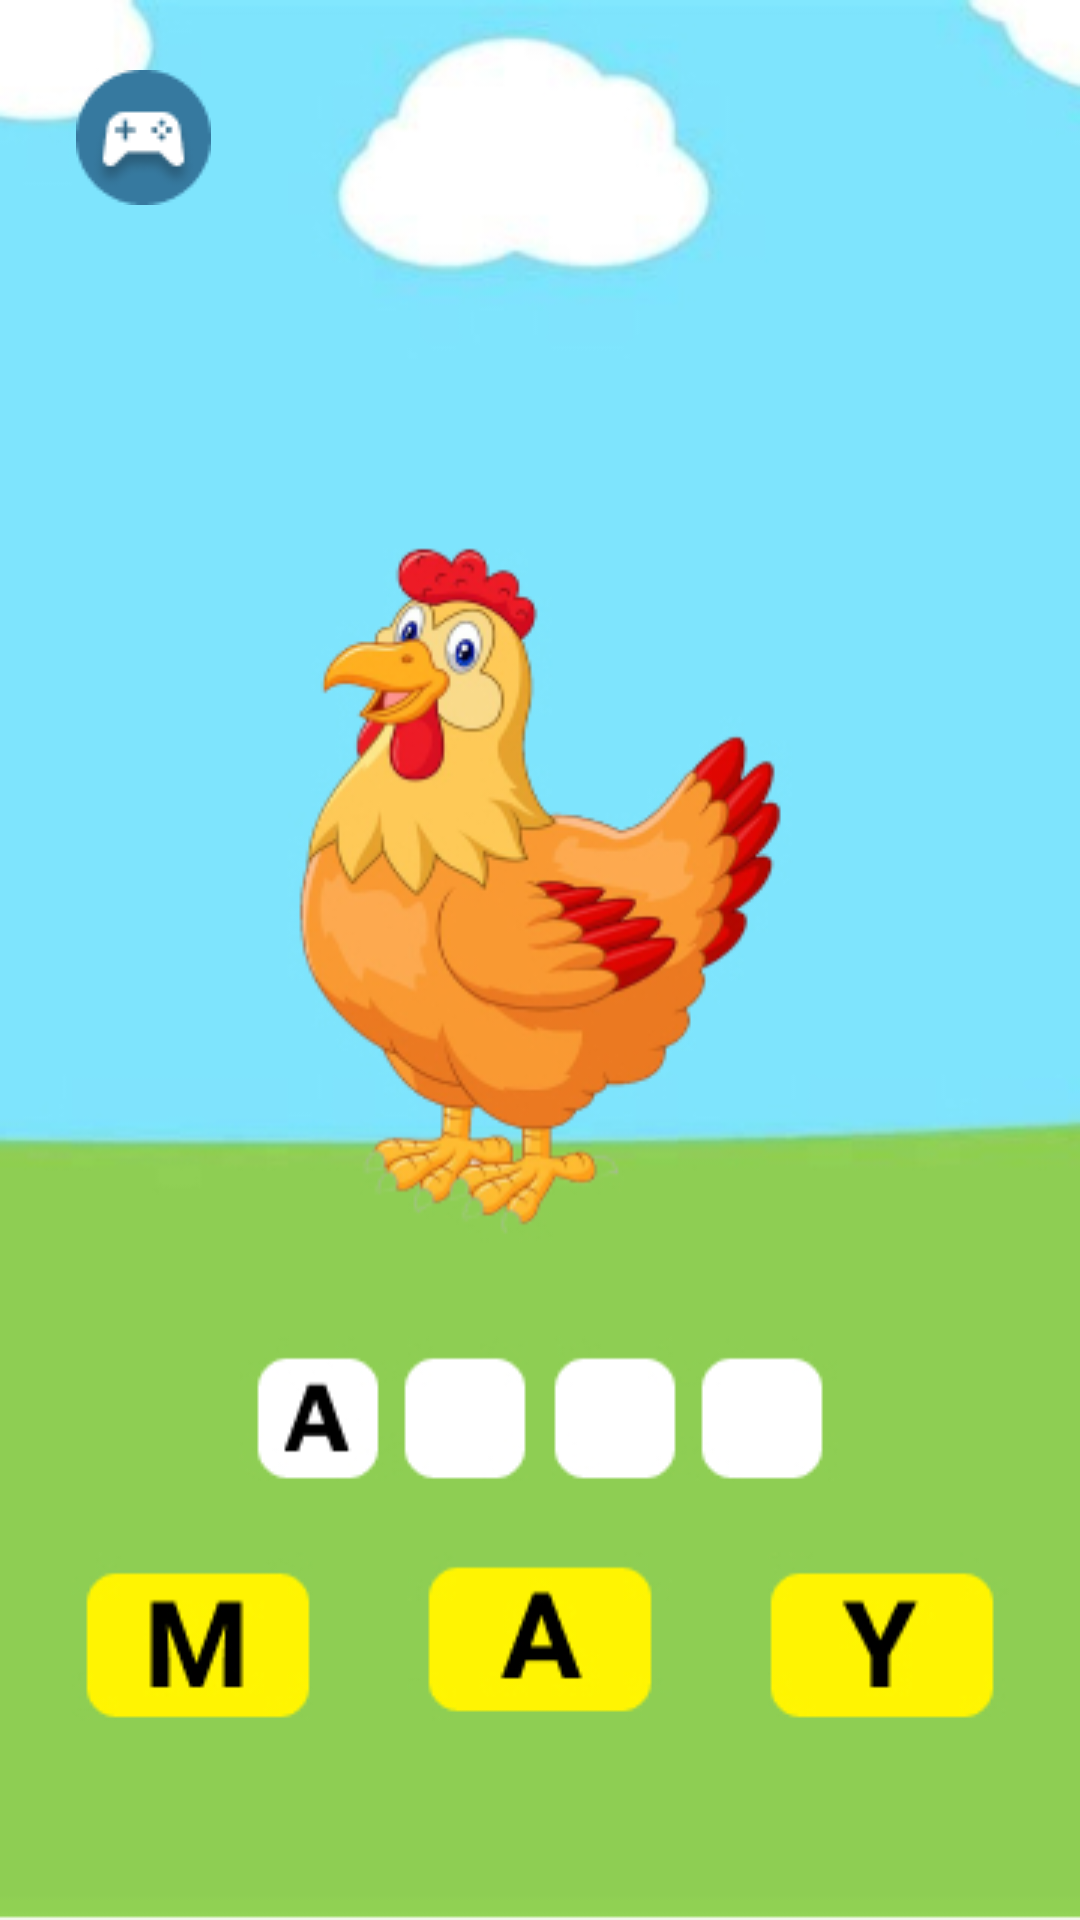

Named icons in this screenshot (1080 x 1920) and their centers, point (x, y):
game: point (125, 122)
